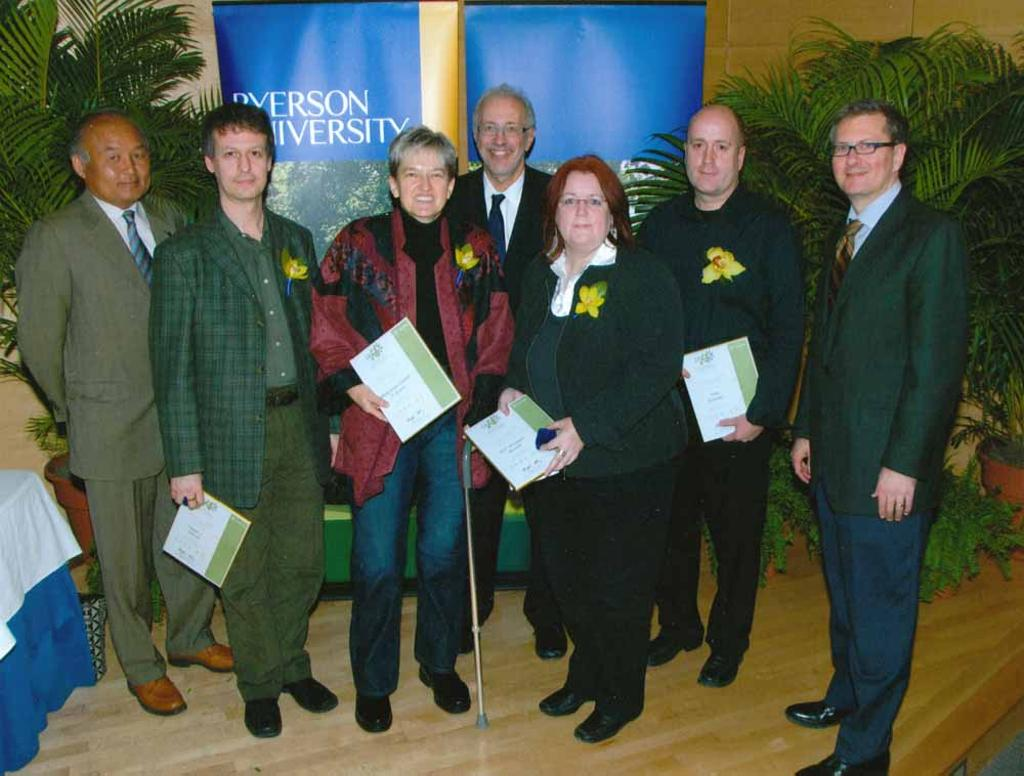face: (84, 127, 149, 201), (685, 119, 739, 193), (832, 127, 890, 193), (553, 179, 608, 245), (477, 98, 523, 175), (214, 131, 266, 198), (398, 150, 448, 217)
